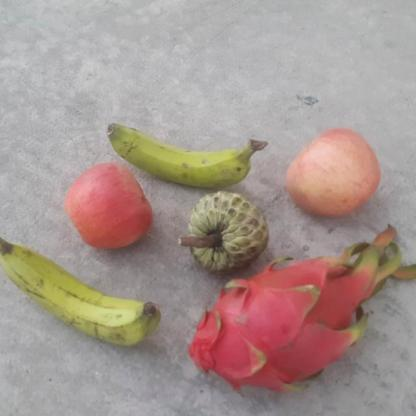annona: (185, 190, 268, 271)
apple: (283, 127, 382, 220), (64, 162, 154, 252)
banana: (0, 221, 164, 346), (106, 121, 271, 190)
pitaya: (189, 253, 375, 392)
